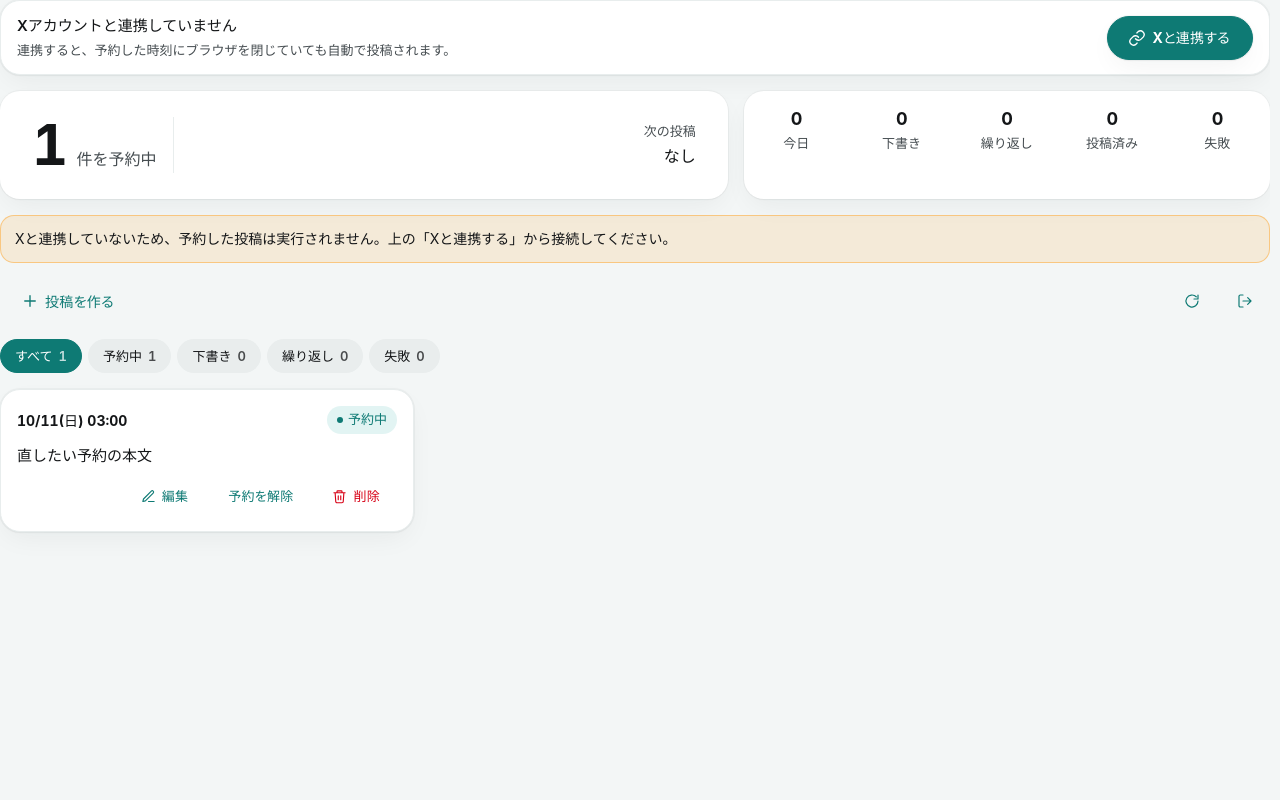
Test: ScheduleView: 投稿作成は ComposerSheet 一本 › 上のツールバーの「投稿を作る」は、全面オーバーレイのシートを開く（AIパネルは閉じたまま）
This screenshot has width=1280, height=800.
Click the button "投稿を作る" at [68, 301], box [0,279,137,323]
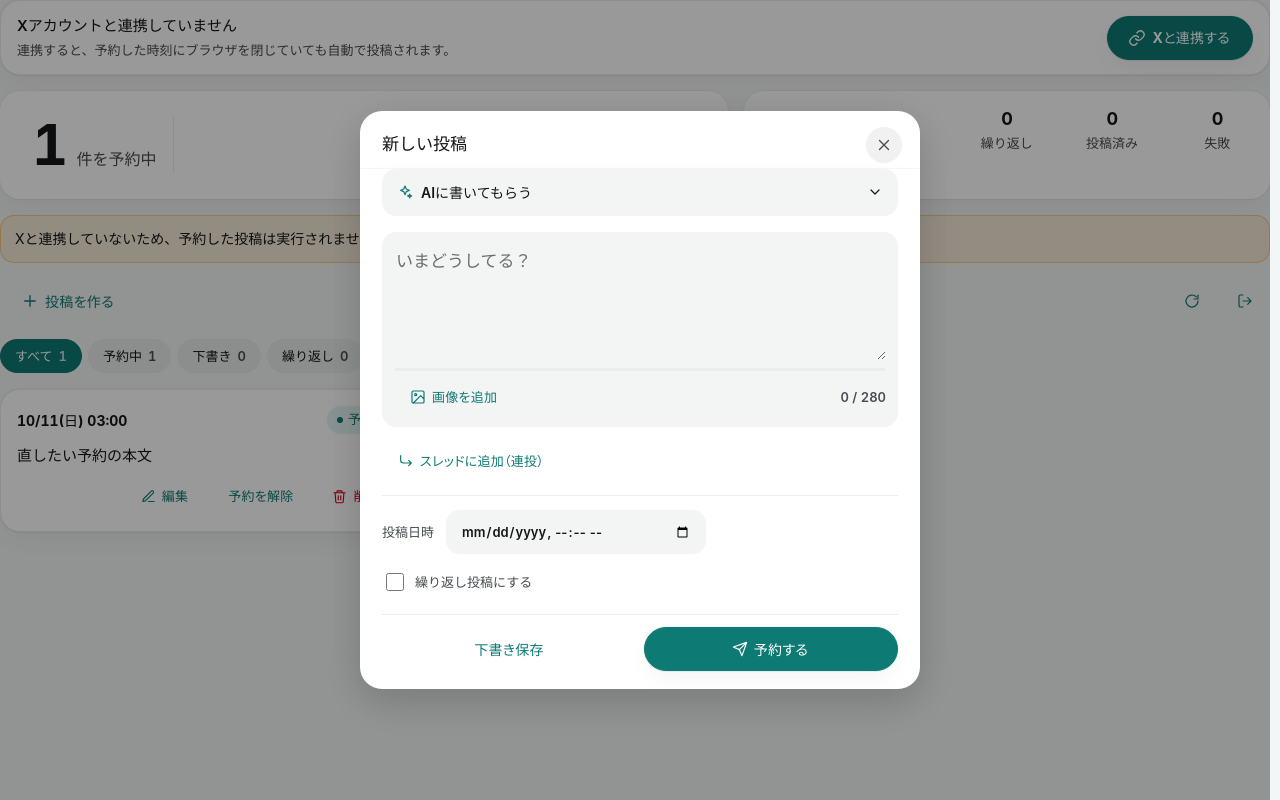
Expected: the dialog "新しい投稿" is shown
